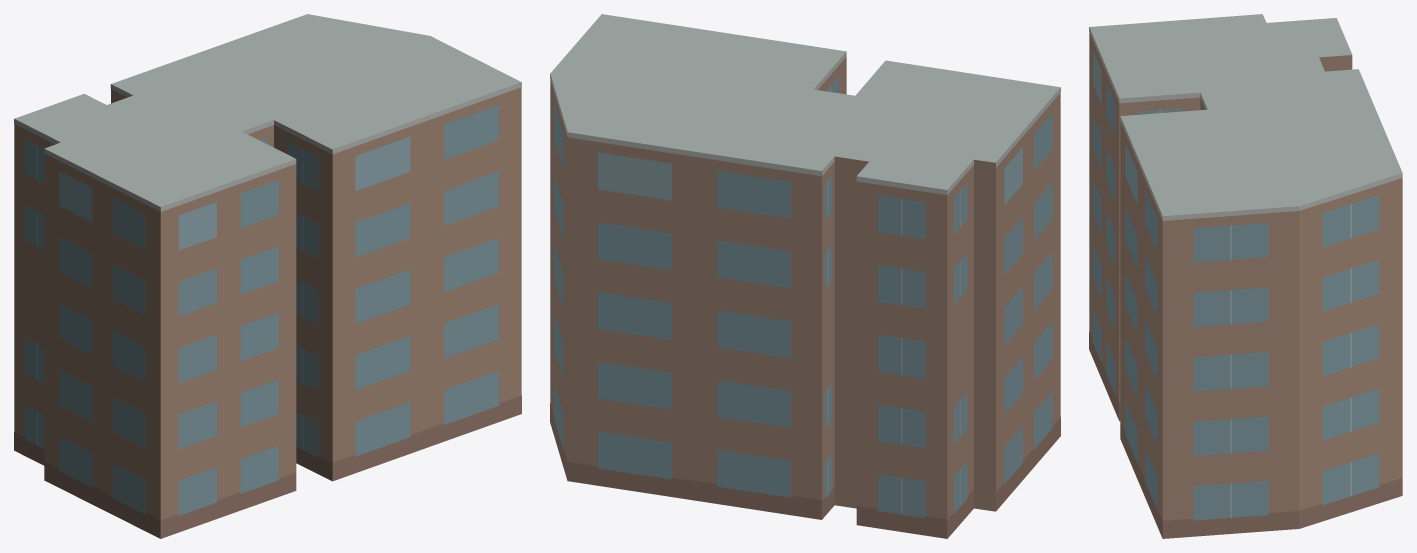
The model's file is survey-upis-33025088.glb.
3 views of the same model, side by side, from view 1: azimuth 30°, elevation 25°; view 2: azimuth 150°, elevation 25°; view 3: azimuth 270°, elevation 25° (orthographic). The views are drawn at different scales.
Parts seen in each view (by area): view 1: survey-upis-33025088.tmp; view 2: survey-upis-33025088.tmp; view 3: survey-upis-33025088.tmp.
Boxes of the visible parts, x1,y1,x2,y2 form: survey-upis-33025088.tmp: (14, 14, 521, 538); survey-upis-33025088.tmp: (550, 14, 1060, 538); survey-upis-33025088.tmp: (1089, 14, 1402, 538).
Size of the model in its own units: 22.19 by 16.5 by 14.54.
